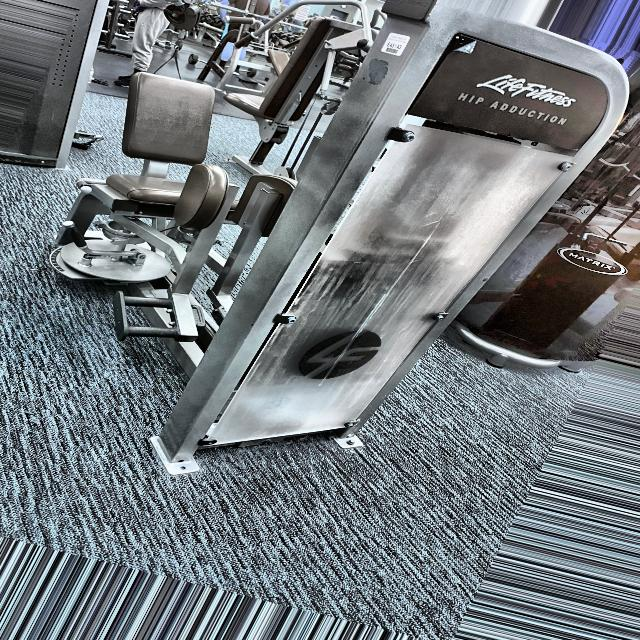hip_adduction_machine: (80, 60, 277, 375), (450, 86, 587, 150)
